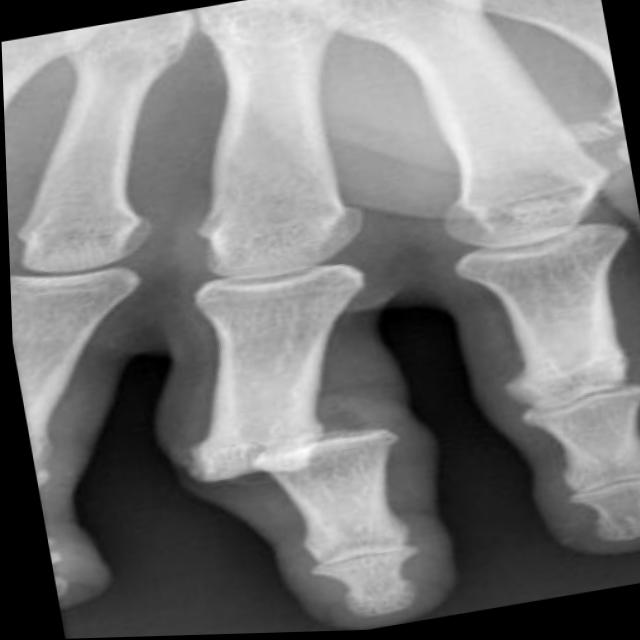fracture: (163, 406, 410, 509)
